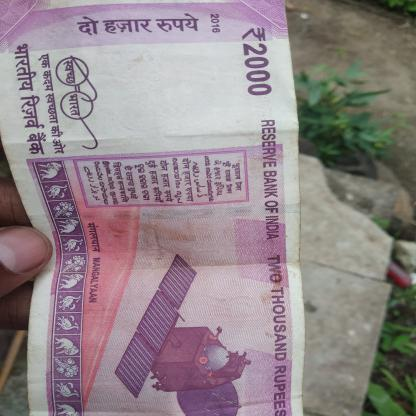New2000Back: (0, 1, 301, 415)
